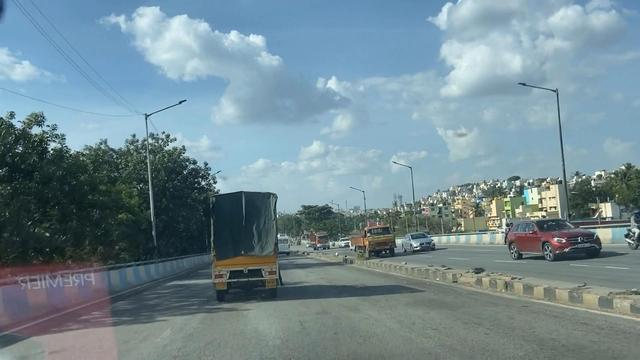HMV: (196, 193, 290, 300)
